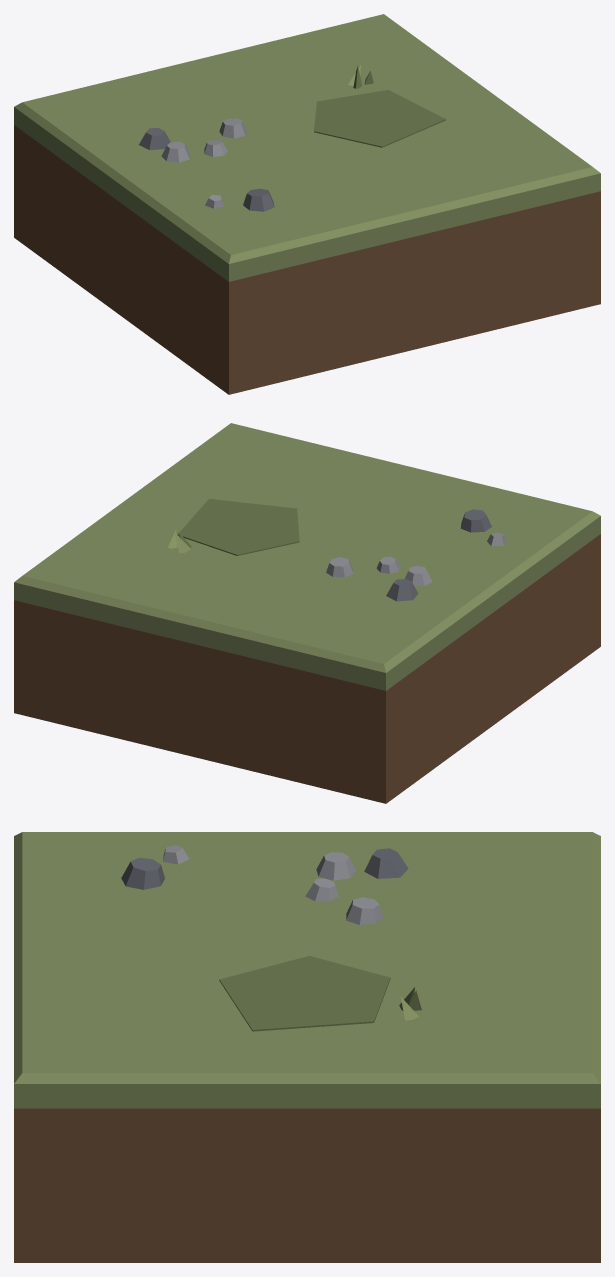
The model's file is Ground C.fbx.
The picture shows the model from 3 angles, top to bottom: view 1: azimuth 30°, elevation 25°; view 2: azimuth 150°, elevation 25°; view 3: azimuth 270°, elevation 25°; orthographic projection. The views are drawn at different scales.
Parts seen in each view (by area): view 1: Ground C; view 2: Ground C; view 3: Ground C.
Boxes of the visible parts, <box> form: Ground C: <box>14,14,600,394</box>; Ground C: <box>14,423,600,803</box>; Ground C: <box>14,832,600,1262</box>.
Bounding box in the file's own units: 1 × 0.3982 × 1.
